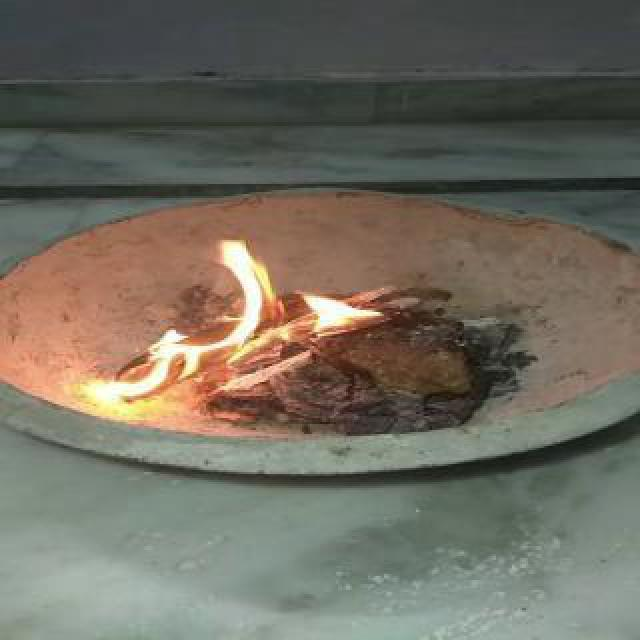Fire: (98, 246, 380, 406)
